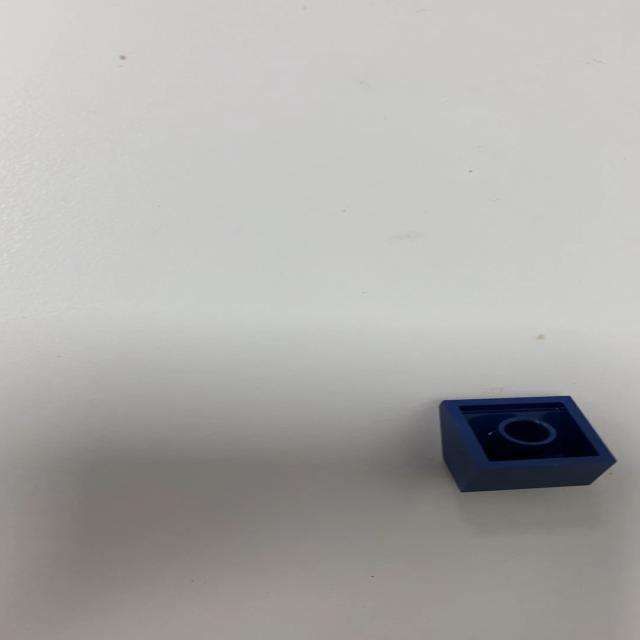P2x2x1: (437, 394, 617, 493)
